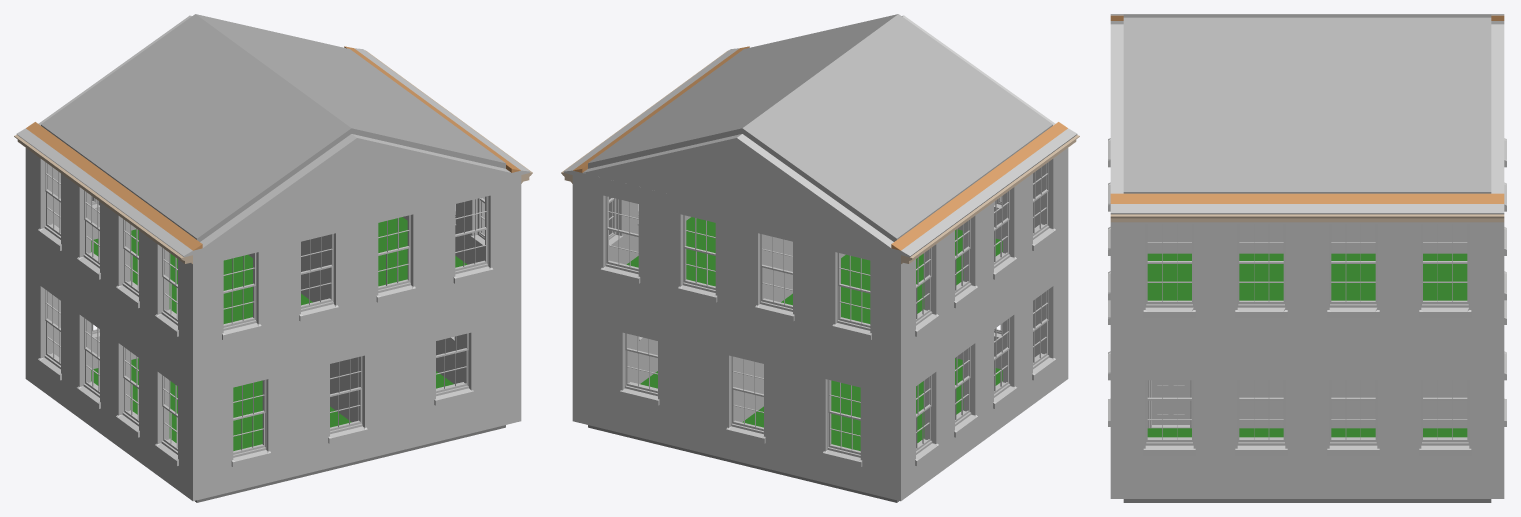
The model's file is homemaker-house.glb.
The picture shows the model from 3 angles, left to right: view 1: azimuth 30°, elevation 25°; view 2: azimuth 150°, elevation 25°; view 3: azimuth 270°, elevation 25°; orthographic projection. The views are drawn at different scales.
Visible parts, largest first — view 1: geometry_0; view 2: geometry_0; view 3: geometry_0.
Part boxes in pixels (bbox=[...]): geometry_0: bbox=[14, 14, 532, 502]; geometry_0: bbox=[561, 14, 1079, 502]; geometry_0: bbox=[1108, 14, 1506, 502].
Bounding box in the file's own units: 9.1 × 8.34 × 7.6.
